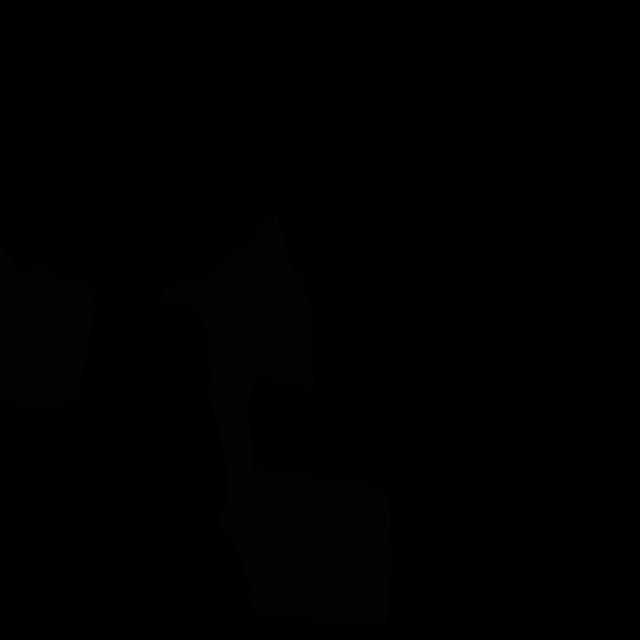cardboard: (159, 213, 316, 470), (216, 468, 392, 627), (0, 241, 96, 407)
